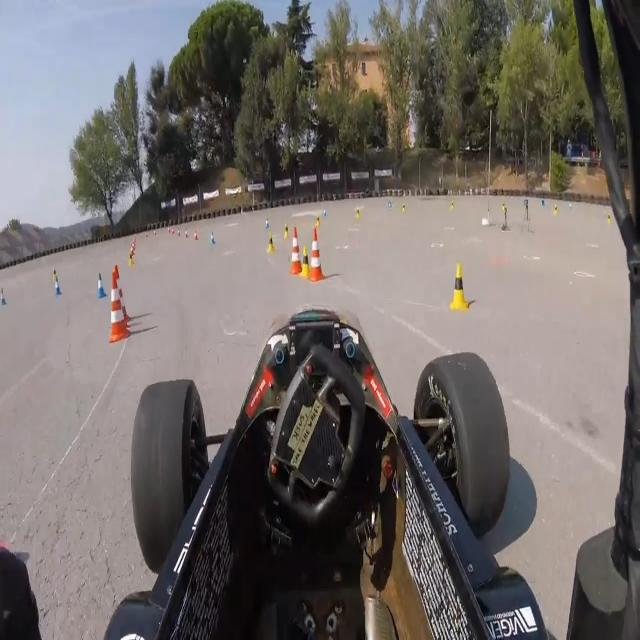blue_cone: (97, 272, 106, 298), (54, 277, 62, 298), (0, 287, 7, 307), (210, 230, 216, 246), (264, 216, 270, 230)
large_orange_cone: (109, 273, 128, 346), (112, 266, 129, 332), (309, 226, 326, 288), (289, 226, 303, 277)
orange_cone: (130, 246, 135, 256), (131, 242, 136, 252), (194, 230, 198, 241), (177, 228, 180, 237), (185, 230, 188, 238)
yellow_cone: (448, 262, 468, 315), (266, 234, 276, 255), (282, 220, 291, 240), (553, 202, 560, 220), (128, 249, 134, 268), (52, 267, 58, 283), (402, 200, 408, 215), (356, 204, 361, 220), (450, 196, 456, 209), (316, 213, 321, 227), (502, 198, 506, 211)
